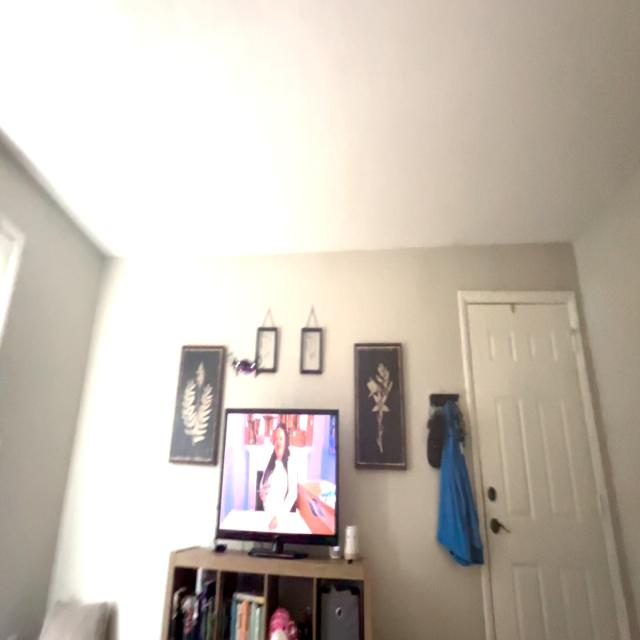drone: (217, 336, 266, 387)
